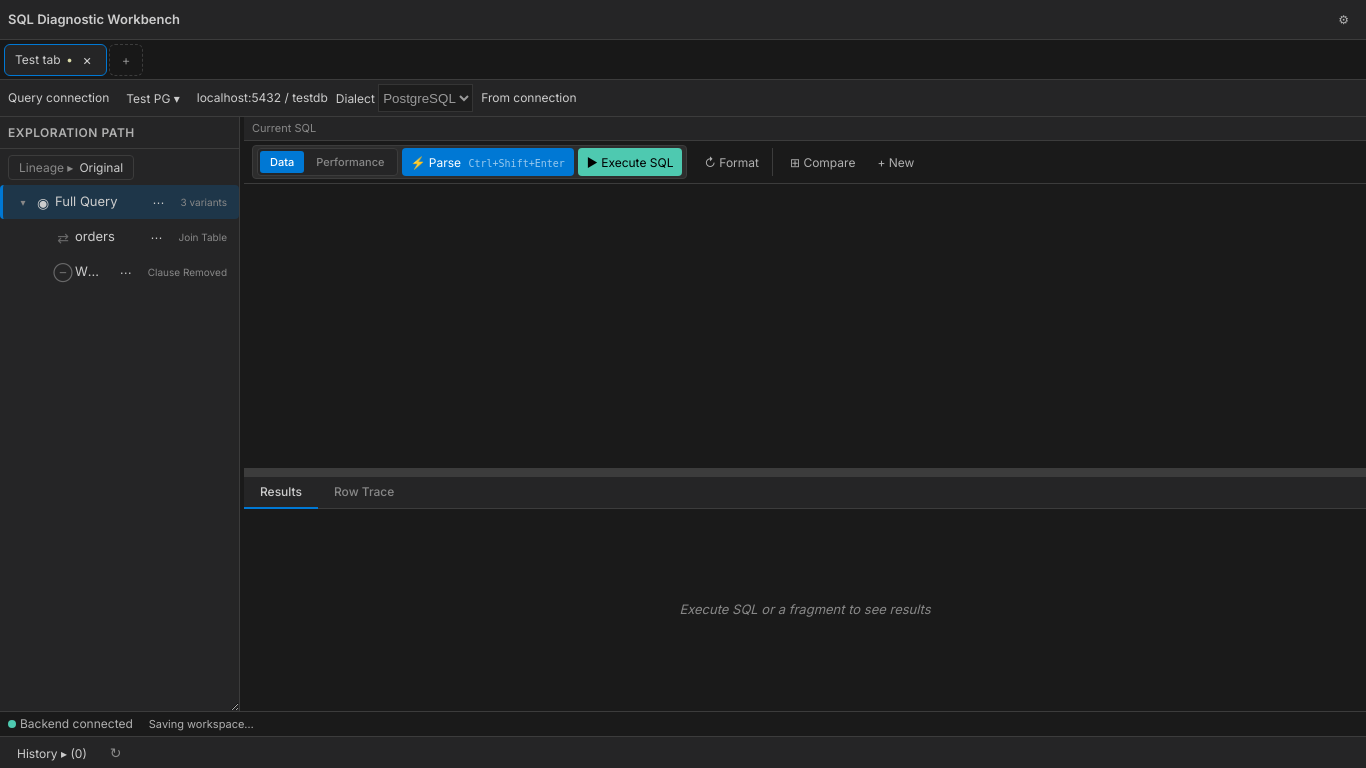
Test: App fragment-edit notice › renders the NO_CHANGE notice when the edit resolves to the facet being edited
This screenshot has width=1366, height=768.
Expected: the button "▶ Execute SQL" is shown, x1=578 y1=148 x2=682 y2=176
Right-click the list item "▾ ◉ Full Query ⋯ 3 variants".
right_click(120, 202)  # box x1=0 y1=185 x2=239 y2=219
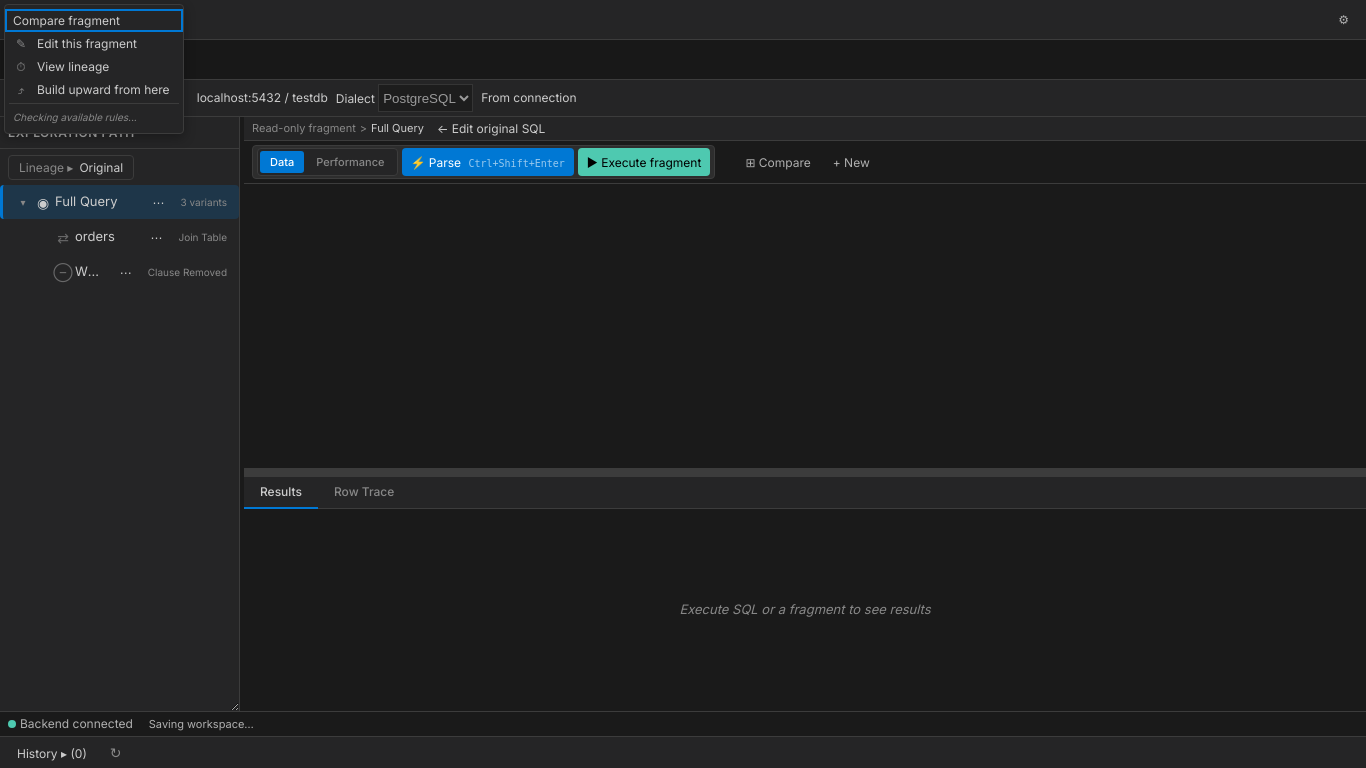
Click the menu item "✎ Edit this fragment".
click(94, 44)  # box x1=5 y1=32 x2=183 y2=55
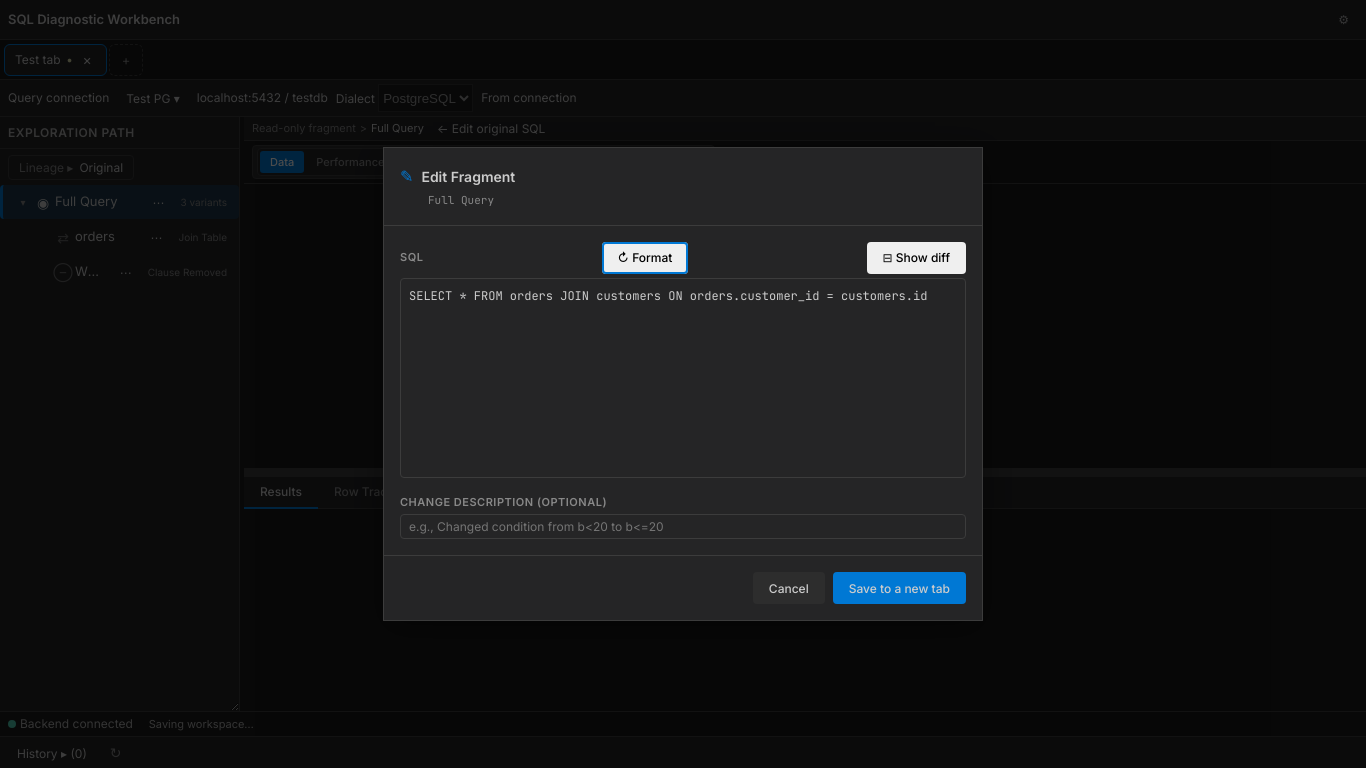
Replace the text in the text box named "SQL fragment editor" with "SELECT * FROM customers" at (683, 378), box x1=400 y1=278 x2=966 y2=478
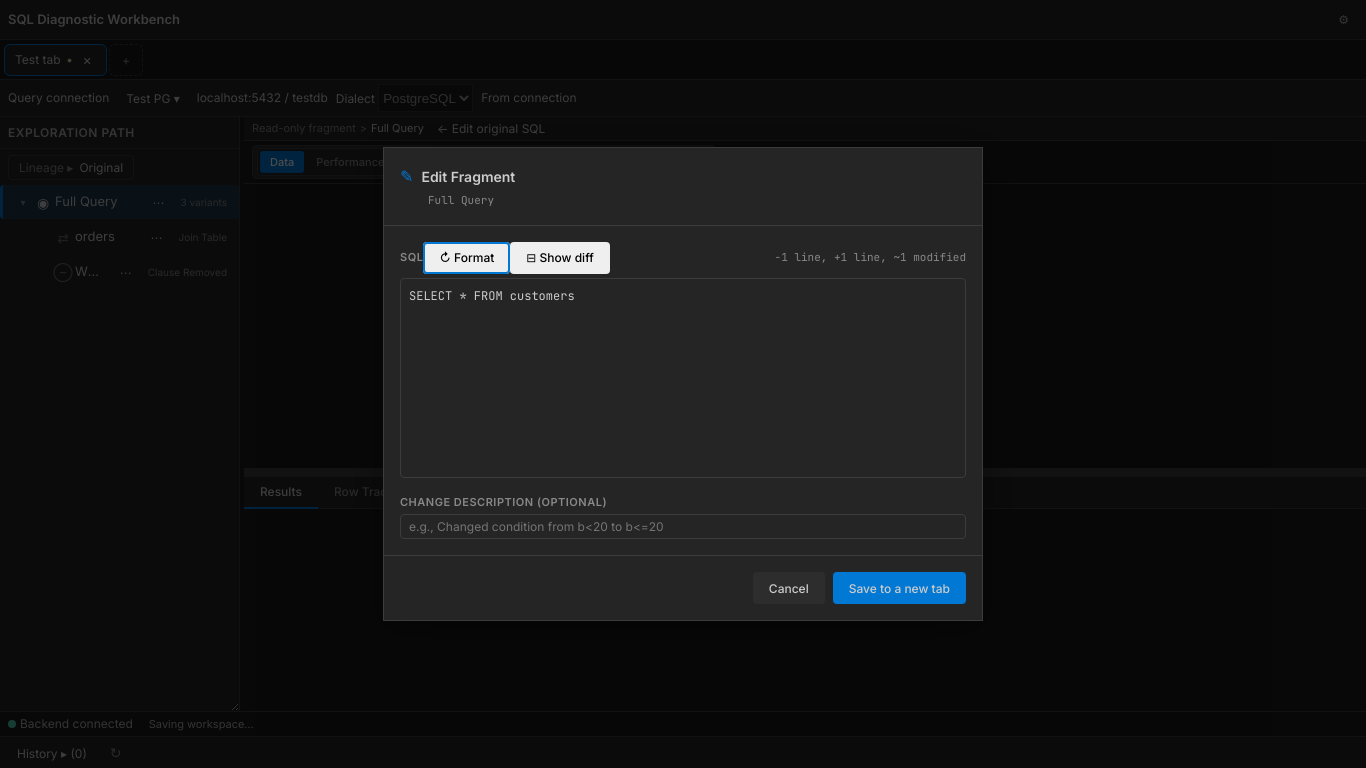
Click the button "Save to a new tab".
click(899, 588)  # box x1=833 y1=572 x2=966 y2=604
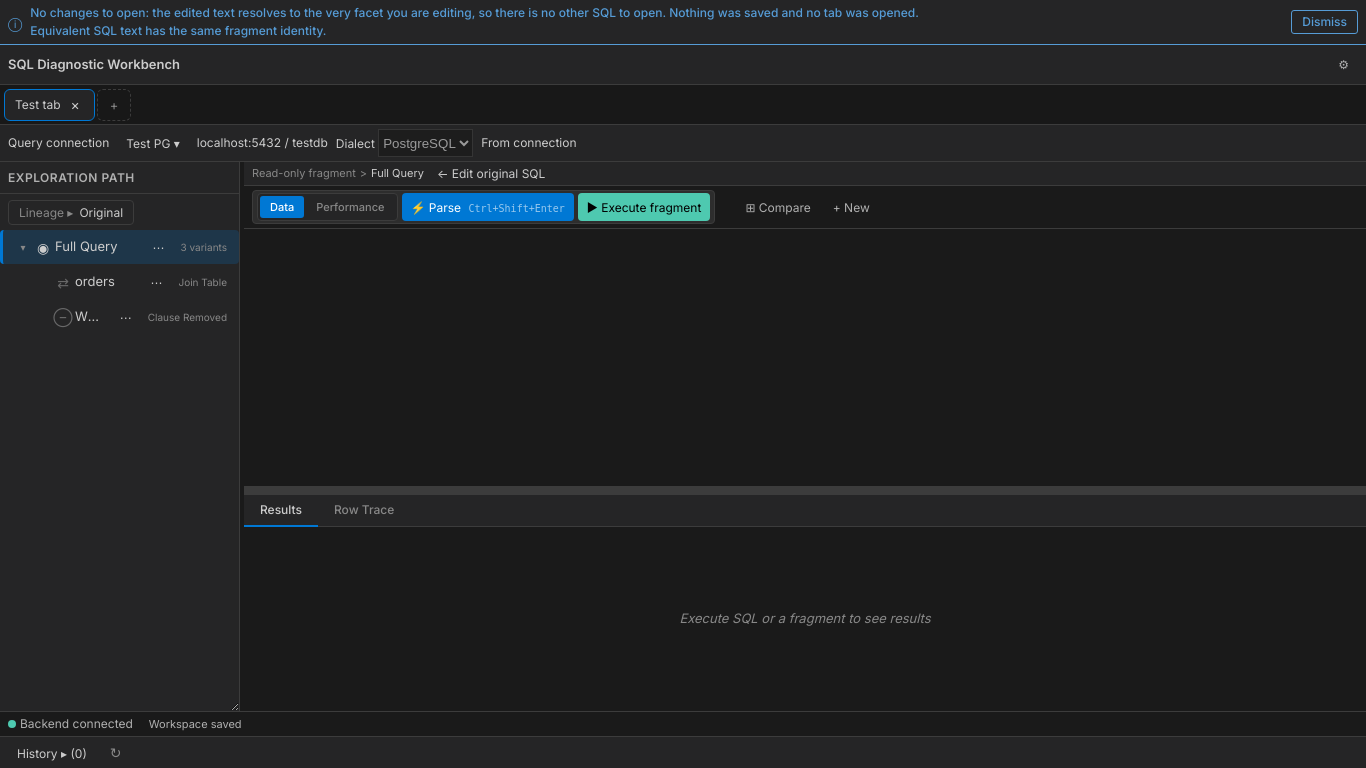
Now the text "resolves to the very facet you are editing" shows "No changes to open", box x1=30 y1=5 x2=146 y2=20
Now the text "resolves to the very facet you are editing" shows "Nothing was saved and no tab was opened.", box x1=30 y1=5 x2=919 y2=38
Now the button "Dismiss" is shown, box x1=1291 y1=10 x2=1358 y2=34
